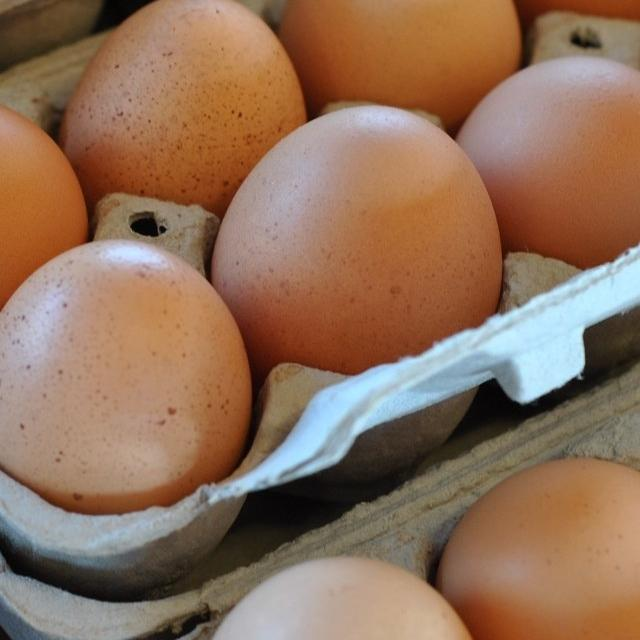egg: (210, 102, 503, 379), (0, 238, 252, 514), (58, 0, 307, 219), (436, 456, 640, 640), (278, 0, 522, 130), (199, 555, 482, 640), (0, 94, 88, 337), (506, 0, 640, 35)
